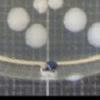white: (6, 6, 31, 32), (24, 22, 48, 48), (63, 8, 86, 33), (87, 22, 100, 50), (32, 0, 49, 15), (47, 0, 65, 11)
